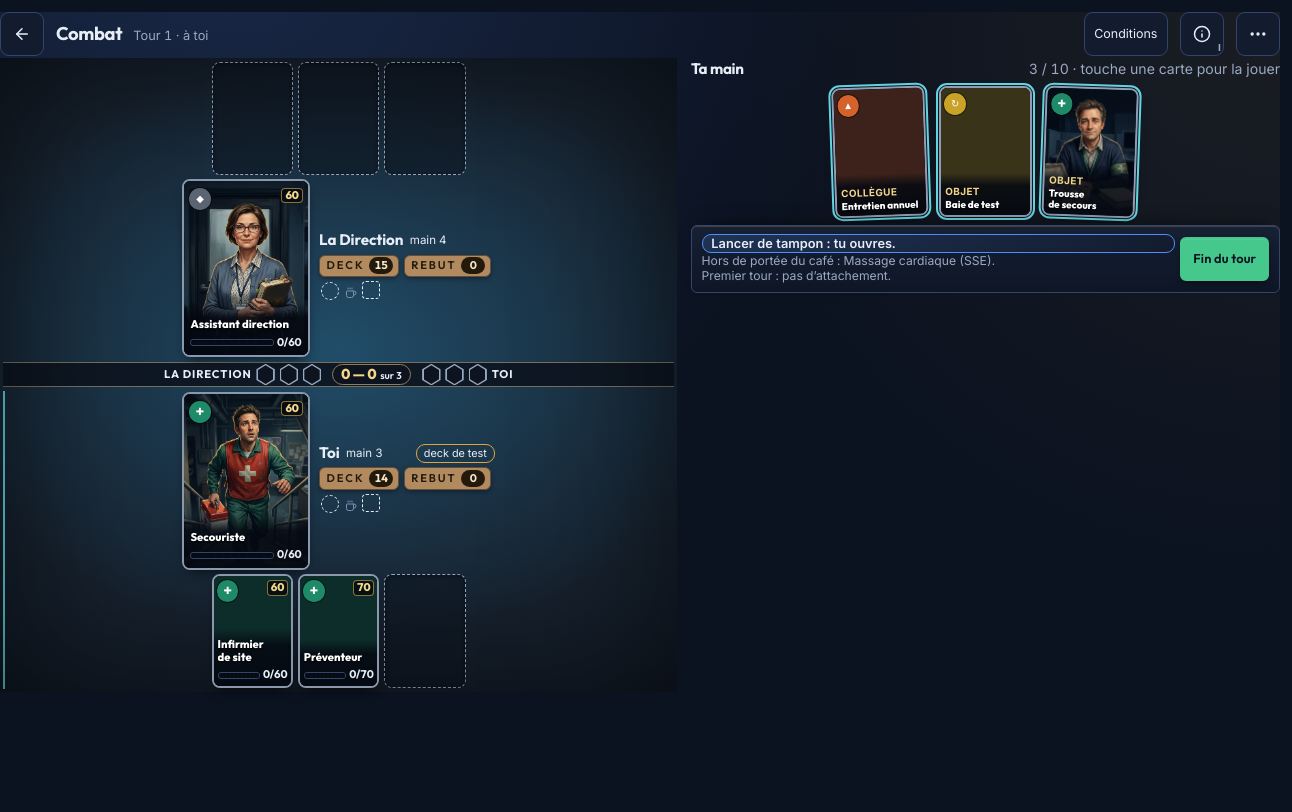
Scenario: Battle — écran de combat › affiche le bouton Abandonner dans le menu
Click the button named "Menu du combat" at x=1258, y=34, box 1236,12 -> 1280,56
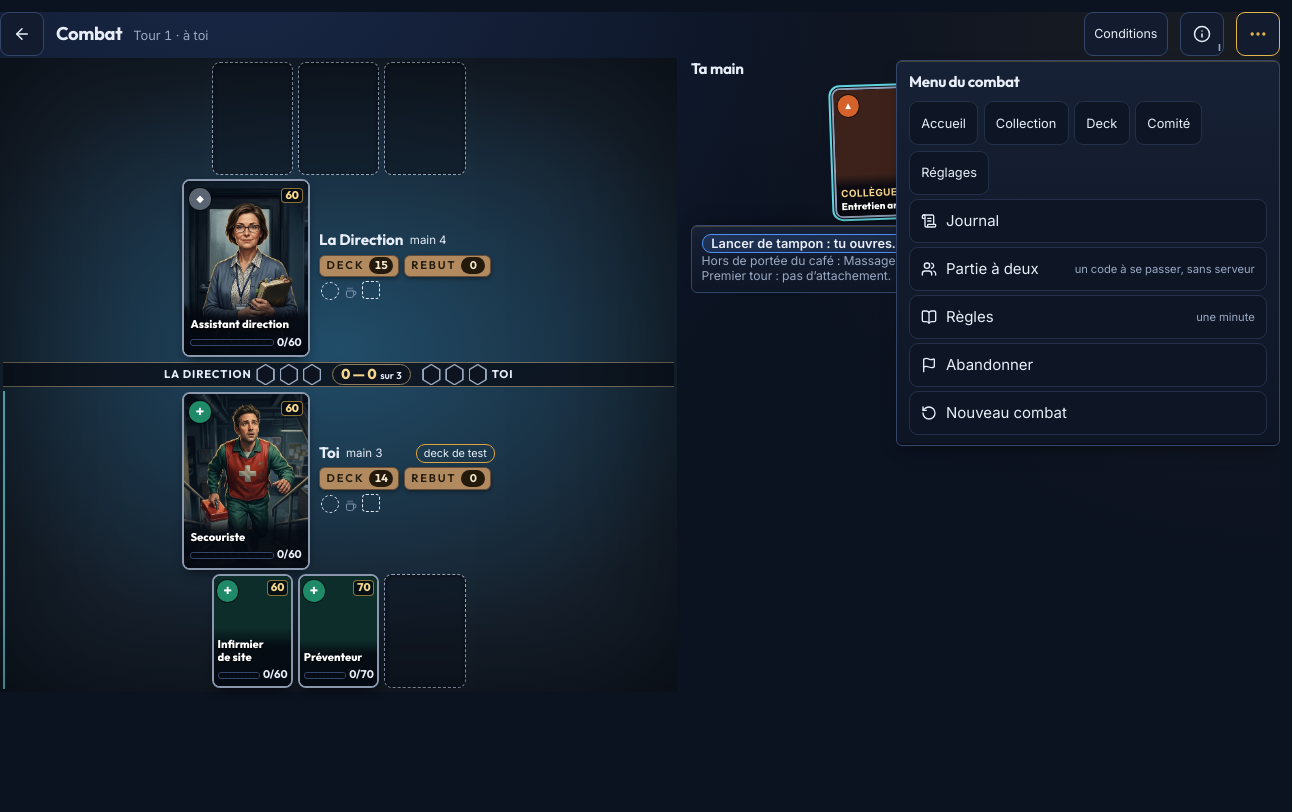
Check: the button "Abandonner" is shown, box 909,343 -> 1267,387
